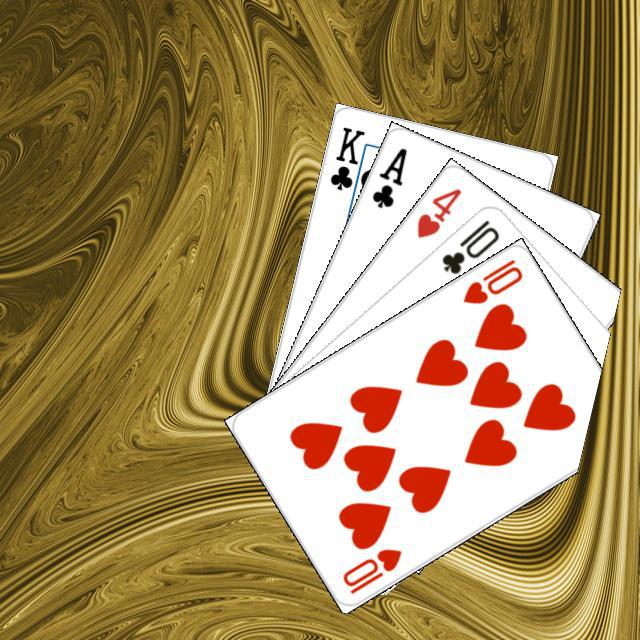10c: (436, 215, 501, 276)
10h: (337, 543, 404, 596), (458, 254, 525, 306)
4h: (411, 183, 464, 240)
Ac: (367, 142, 409, 210)
Kc: (325, 121, 371, 202)
